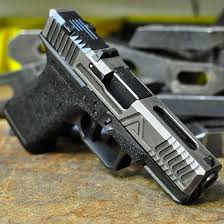gun: (9, 8, 222, 204)
